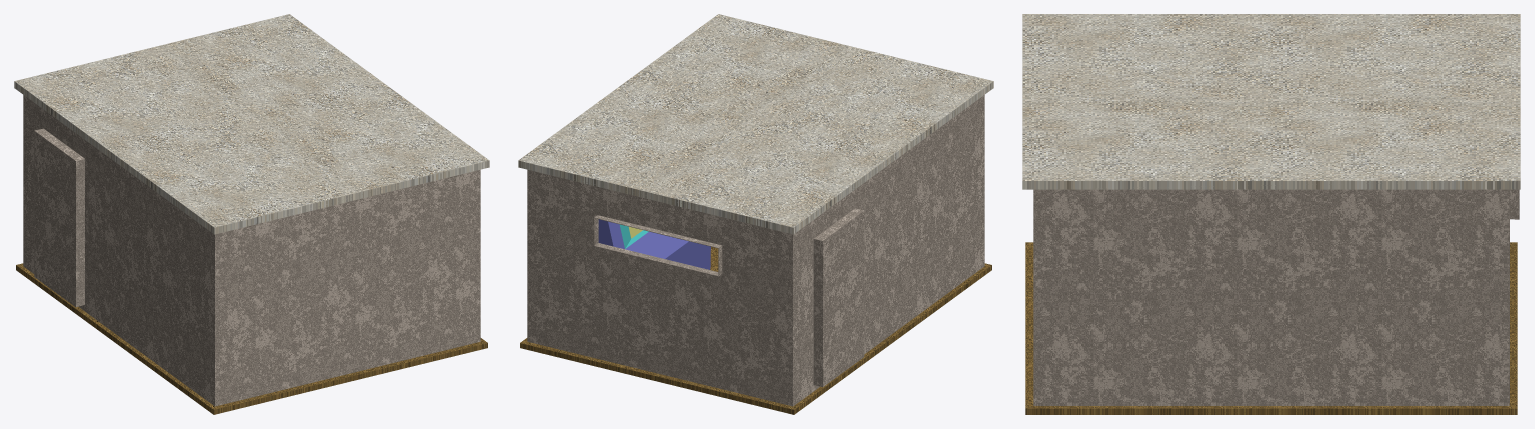
File: room.glb
3 views of the same model, side by side, from view 1: azimuth 30°, elevation 25°; view 2: azimuth 150°, elevation 25°; view 3: azimuth 270°, elevation 25° (orthographic). The views are drawn at different scales.
Visible parts, largest first — view 1: room, ceiling, floor; view 2: room, ceiling, floor, terminal; view 3: room, ceiling, floor.
Part boxes in pixels (x1=…): room: x1=23, y1=95, x2=480, y2=406; ceiling: x1=14, y1=14, x2=489, y2=234; floor: x1=16, y1=263, x2=487, y2=414; room: x1=527, y1=95, x2=984, y2=406; ceiling: x1=518, y1=14, x2=993, y2=234; floor: x1=520, y1=246, x2=991, y2=414; terminal: x1=598, y1=219, x2=710, y2=269; room: x1=1033, y1=189, x2=1519, y2=405; ceiling: x1=1022, y1=14, x2=1520, y2=189; floor: x1=1025, y1=242, x2=1517, y2=414.
Bounding box in the file's own units: 4.23 × 2.72 × 5.24.
Materials: 5 (5 with a texture image).
